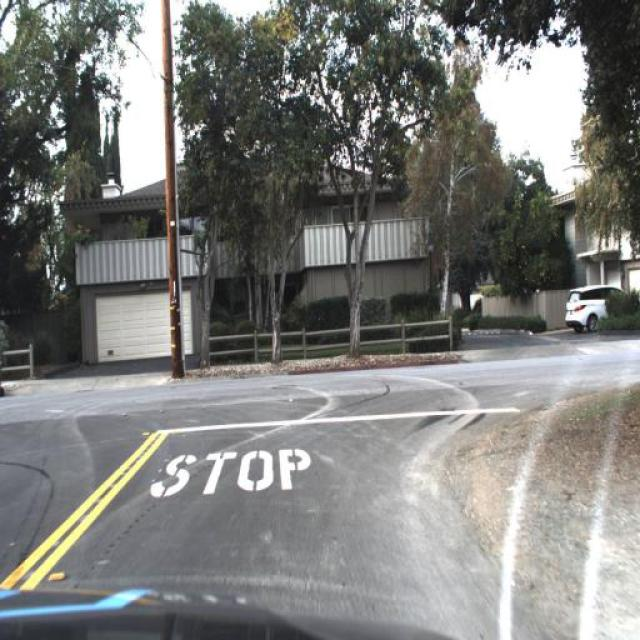car: (561, 282, 633, 332), (564, 286, 630, 330)
